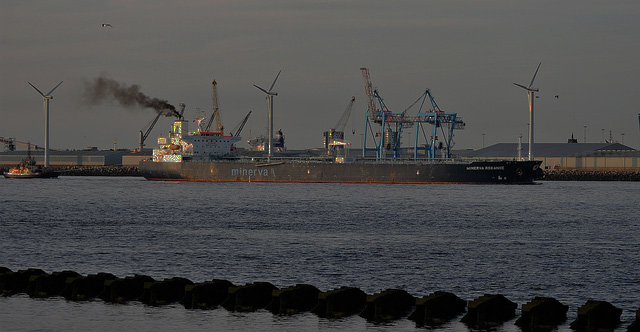tanker: (133, 116, 544, 188)
tug_boat: (6, 139, 60, 180)
